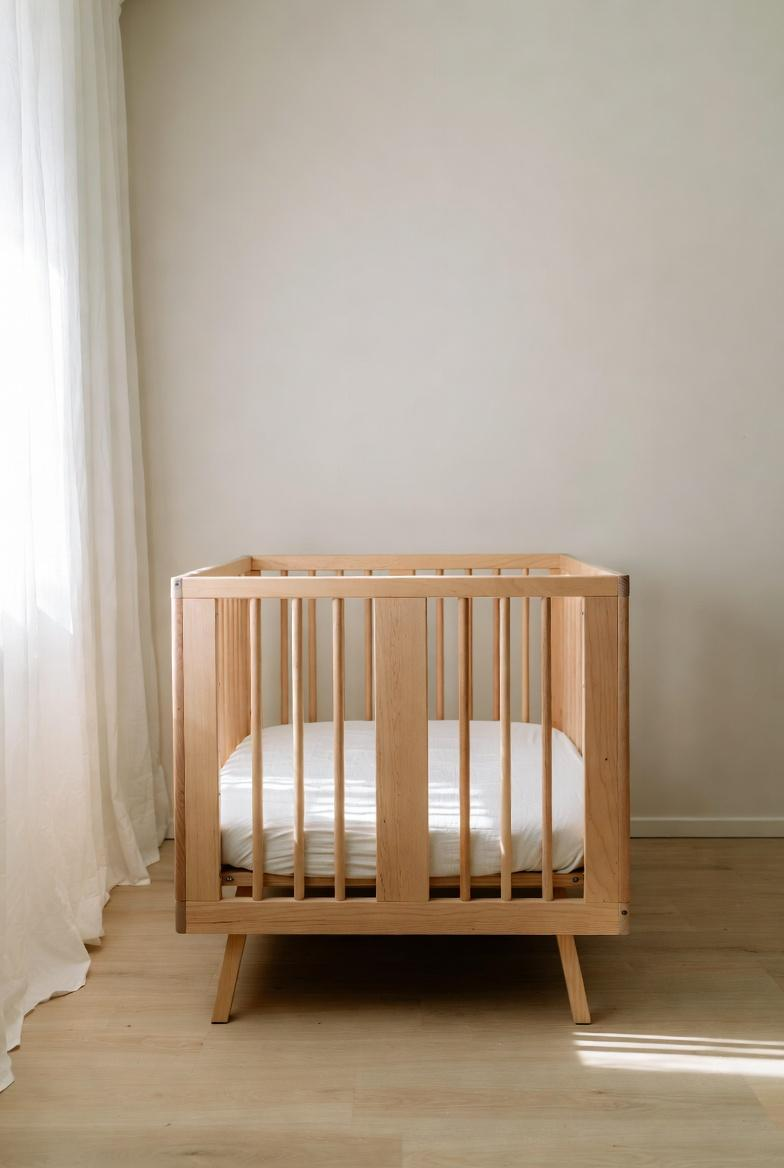crib: (173, 554, 629, 1022)
